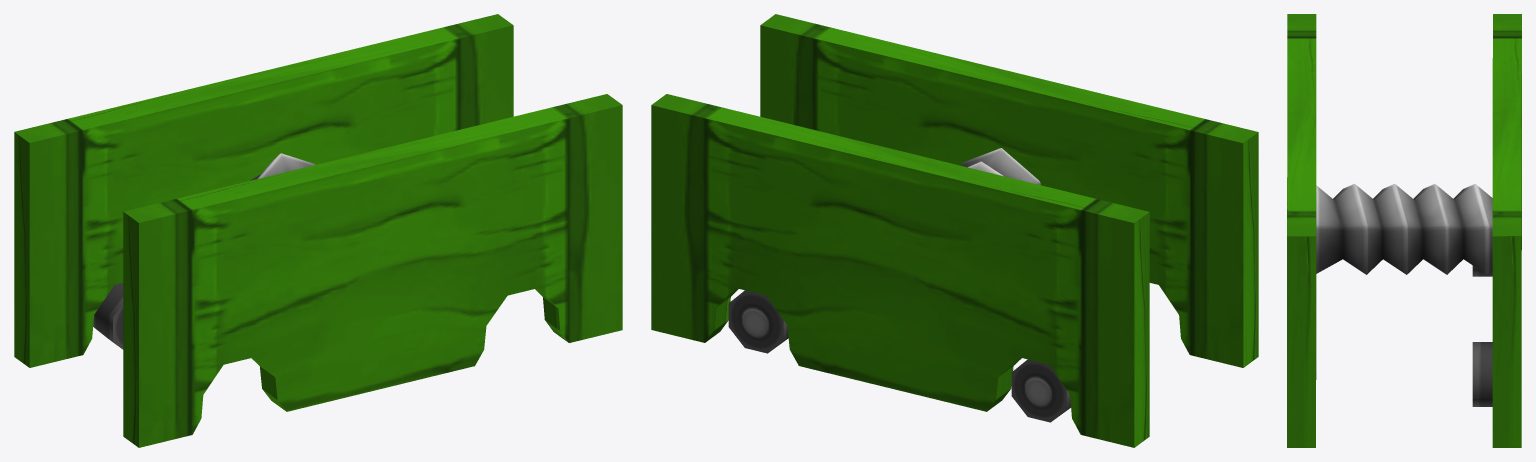
The model's file is dynamic_fence_green_01.fbx.
3 renders of one model, left to right at view 1: azimuth 30°, elevation 25°; view 2: azimuth 150°, elevation 25°; view 3: azimuth 270°, elevation 25°, orthographic. The views are drawn at different scales.
Visible parts, largest first — view 1: dynamic_fence_green_01; view 2: dynamic_fence_green_01; view 3: dynamic_fence_green_01.
Part boxes in pixels (left/top/right/bottom): dynamic_fence_green_01: left=14, top=14, right=622, bottom=447; dynamic_fence_green_01: left=651, top=14, right=1258, bottom=447; dynamic_fence_green_01: left=1287, top=14, right=1521, bottom=447.
Size of the model in its own units: 90.02 by 40 by 40.21.
